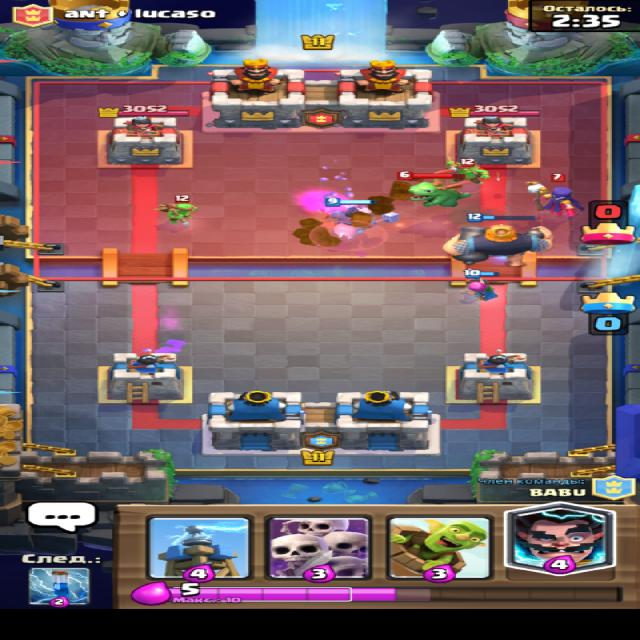Enemy-BabyDragon: (395, 170, 473, 207)
Enemy-SpearGoblin: (155, 194, 197, 227), (443, 156, 489, 185)
Enemy-Witch: (523, 172, 585, 216)
Player-Archer: (459, 268, 504, 300)
Player-HogRider: (320, 197, 400, 240)
Player-RoyalGiant: (440, 212, 555, 269)
